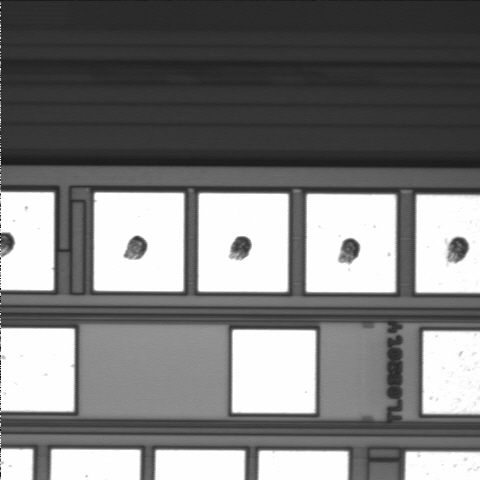pad: (198, 193, 288, 292), (94, 193, 184, 291), (306, 194, 396, 292), (232, 330, 316, 413)
